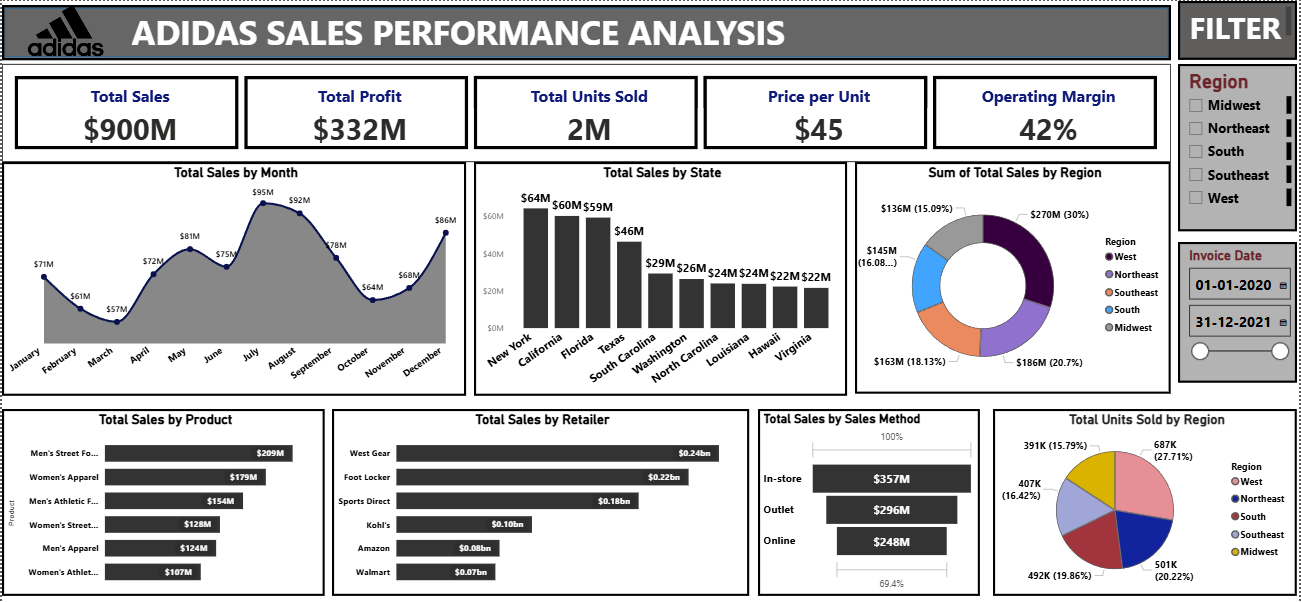

The page's visual inventory and layout, read from the dashboard file:
{"tool":"powerbi","page":{"name":"ADIDAS DASHBOARD","canvas":[1854,860],"ordinal":0},"visuals":[{"type":"shape","box":[0,5.7,1670,78.6],"z":0},{"type":"textbox","box":[180,5.7,1015.7,74.3],"z":1000},{"type":"cardVisual","fields":{"Data":["Sum(Data Sales Adidas.Total Sales)","Sum(Data Sales Adidas.Operating Profit)","Sum(Data Sales Adidas.Units Sold)","Avg(Data Sales Adidas.Price per Unit)","Avg(Data Sales Adidas.Operating Margin)"]},"box":[0,90,1670,140],"z":2000},{"type":"areaChart","title":"Total Sales by Month","fields":{"Category":["Data Sales Adidas.Invoice Date.Variation.Date Hierarchy.Month"],"Y":["Sum(Data Sales Adidas.Total Sales)"]},"box":[0,230,662.9,334.3],"z":3000},{"type":"columnChart","title":"Total Sales by State","fields":{"Category":["Data Sales Adidas.State"],"Y":["Sum(Data Sales Adidas.Total Sales)"]},"box":[674.3,230,532.9,334.3],"z":4000},{"type":"image","box":[0,5.7,181.4,72.9],"z":5000},{"type":"donutChart","fields":{"Category":["Data Sales Adidas.Region"],"Y":["Sum(Data Sales Adidas.Total Sales)"]},"box":[1218.6,230,451.4,331.4],"z":6000},{"type":"barChart","title":"Total Sales by Product","fields":{"Y":["Sum(Data Sales Adidas.Total Sales)"],"Category":["Data Sales Adidas.Product"]},"box":[0,582.9,461.4,267.1],"z":7000},{"type":"clusteredBarChart","title":"Total Sales by Retailer","fields":{"Category":["Data Sales Adidas.Retailer"],"Y":["Sum(Data Sales Adidas.Total Sales)"]},"box":[471.4,582.9,595.7,267.1],"z":8000},{"type":"funnel","title":"Total Sales by Sales Method","fields":{"Category":["Data Sales Adidas.Sales Method"],"Y":["Sum(Data Sales Adidas.Total Sales)"]},"box":[1080,582.9,317.1,267.1],"z":9000},{"type":"textbox","box":[1680,0,170,84.3],"z":10000},{"type":"slicer","fields":{"Values":["Data Sales Adidas.Region"]},"box":[1680,90,170,238.6],"z":11000},{"type":"slicer","fields":{"Values":["Data Sales Adidas.Invoice Date"]},"box":[1680,338.9,170,201.1],"z":12000},{"type":"pieChart","title":"Total Units Sold by Region","fields":{"Category":["Data Sales Adidas.Region"],"Y":["Sum(Data Sales Adidas.Units Sold)"]},"box":[1415.7,582.9,434.3,267.1],"z":13000}]}

Visuals, with their boxes in screenshot pixels (x1, y1, x2, y2), scaled from the page's 1854x860 canvas onto the 1301x602 screenshot:
shape: 0 4 1172 59
textbox: 126 4 839 56
cardVisual - Sum(Data Sales Adidas.Total Sales) x Sum(Data Sales Adidas.Operating Profit): 0 63 1172 161
"Total Sales by Month" areaChart: 0 161 465 395
"Total Sales by State" columnChart: 473 161 847 395
image: 0 4 127 55
donutChart - Data Sales Adidas.Region x Sum(Data Sales Adidas.Total Sales): 855 161 1172 393
"Total Sales by Product" barChart: 0 408 324 595
"Total Sales by Retailer" clusteredBarChart: 331 408 749 595
"Total Sales by Sales Method" funnel: 758 408 980 595
textbox: 1179 0 1298 59
slicer - Data Sales Adidas.Region: 1179 63 1298 230
slicer - Data Sales Adidas.Invoice Date: 1179 237 1298 378
"Total Units Sold by Region" pieChart: 993 408 1298 595
